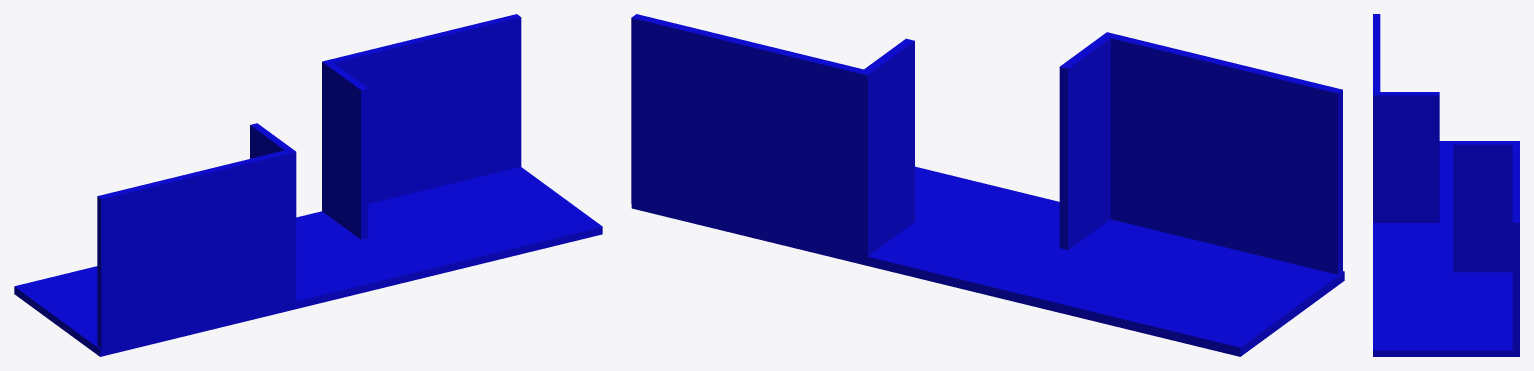
The model's file is wall&floor.fbx.
3 renders of one model, left to right at view 1: azimuth 30°, elevation 25°; view 2: azimuth 150°, elevation 25°; view 3: azimuth 270°, elevation 25°, orthographic. The views are drawn at different scales.
Visible parts, largest first — view 1: wall, wall.001, floor; view 2: wall.001, wall, floor; view 3: floor, wall.001, wall.
Part boxes in pixels (x1,y1,x2,y2): wall: (97, 123, 296, 352); wall.001: (322, 14, 521, 239); floor: (14, 167, 602, 356); wall.001: (631, 14, 914, 261); wall: (1059, 32, 1342, 274); floor: (631, 166, 1344, 356); floor: (1373, 141, 1519, 356); wall.001: (1453, 141, 1519, 353); wall: (1373, 14, 1439, 222).
Size of the model in its own units: 831 by 249 by 246.
